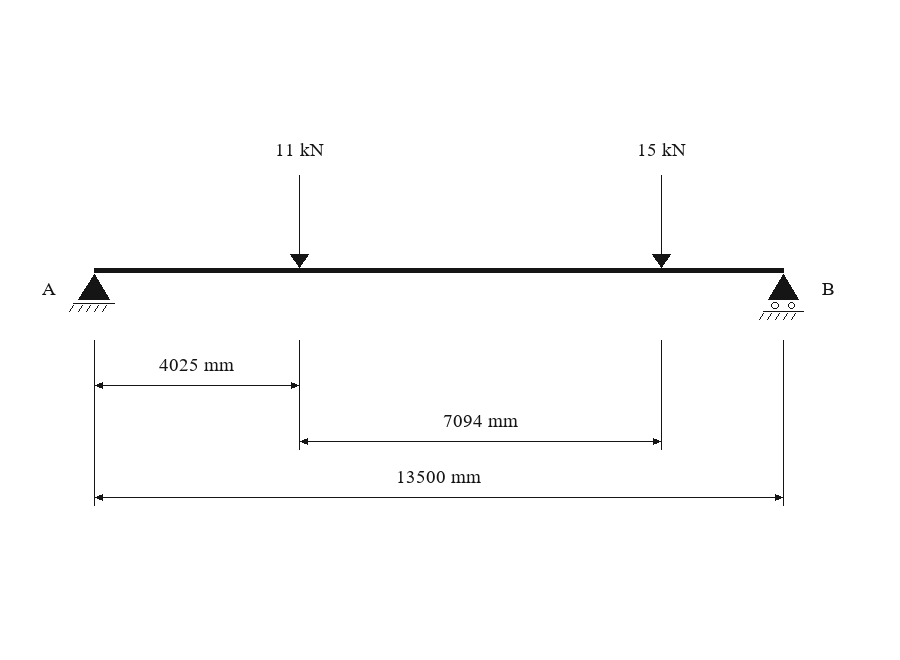pin_support: (69, 274, 115, 312)
point_load: (290, 175, 309, 268), (652, 175, 671, 268)
roller_support: (759, 274, 804, 320)
